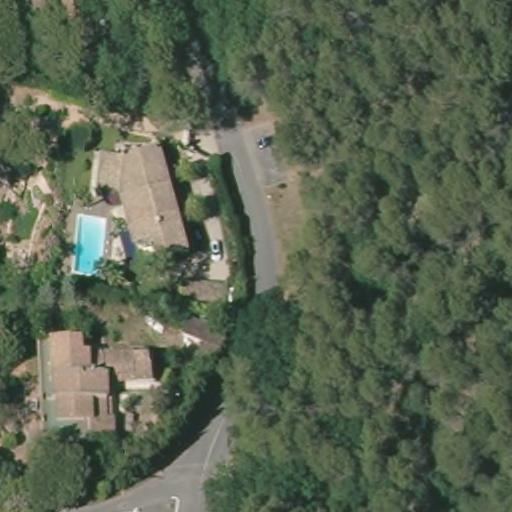pool: (71, 209, 111, 280)
